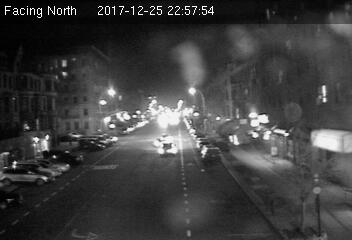car: (200, 146, 222, 163), (158, 142, 178, 157)
